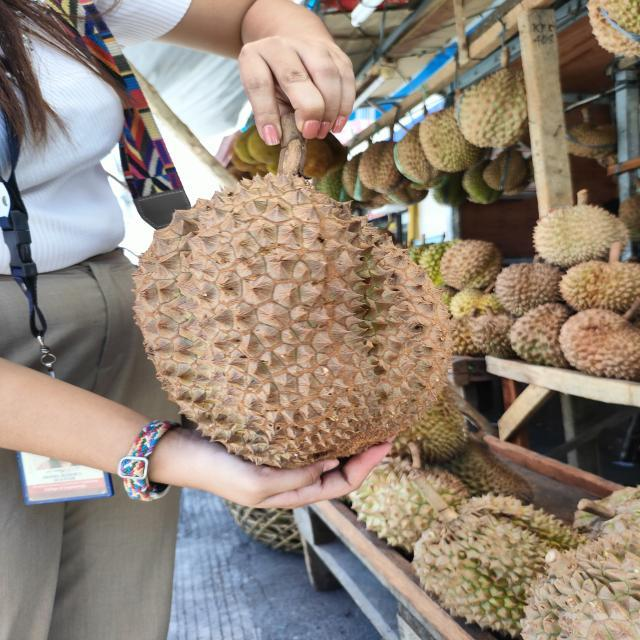mature: (126, 172, 460, 470)
